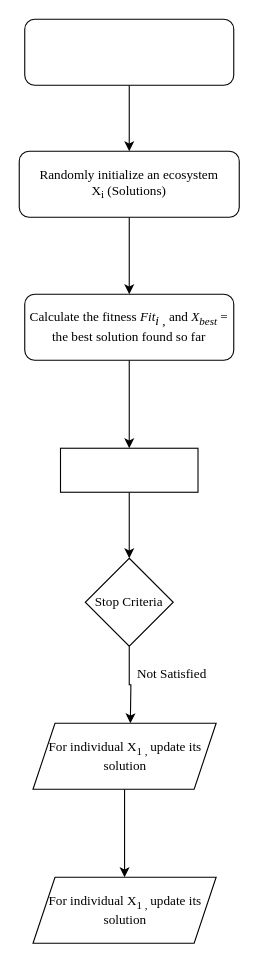
The diagram is 259 pixels wide and 963 high, and some of its shapes have lost their labels. Here are the shapes that lost their labels. From the top down, the centre of each, then its label:
At point 129,51: "Start".
At point 128,469: "While".
